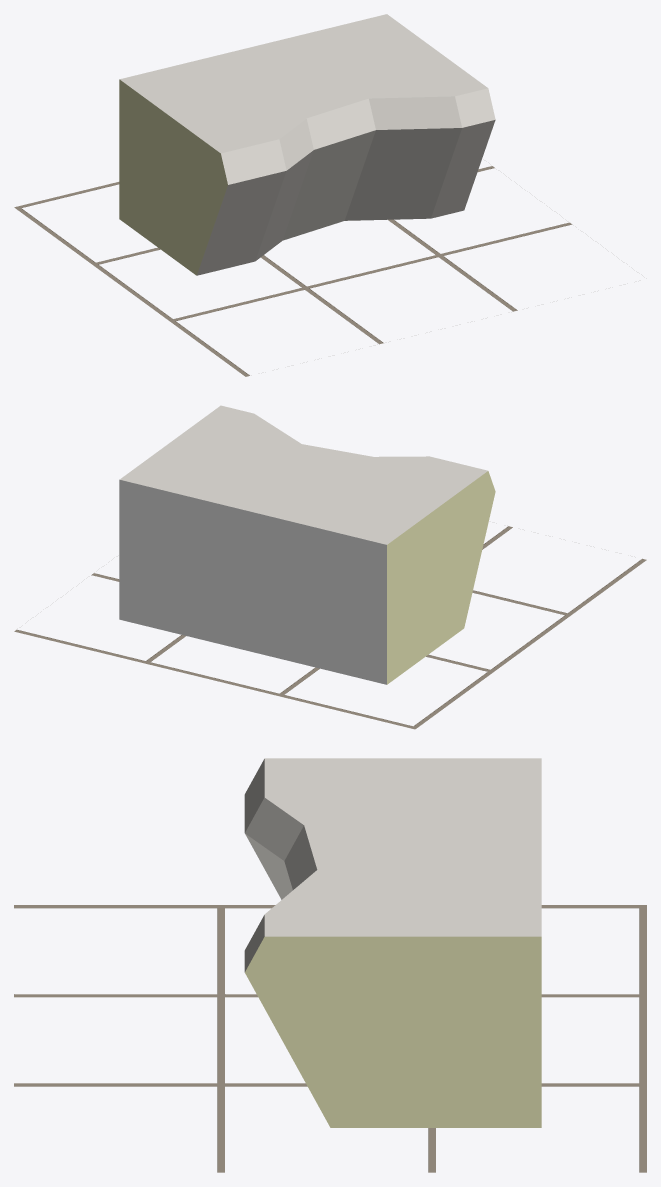
The model's file is Cracked_Straight_2x2_3_Top.glb.
3 renders of one model, top to bottom at view 1: azimuth 30°, elevation 25°; view 2: azimuth 150°, elevation 25°; view 3: azimuth 270°, elevation 25°, orthographic. The views are drawn at different scales.
Visible parts, largest first — view 1: Cracked_Straight_2x2_3_Top, Floor; view 2: Cracked_Straight_2x2_3_Top, Floor; view 3: Cracked_Straight_2x2_3_Top, Floor.
Part boxes in pixels (bbox=[...]): Cracked_Straight_2x2_3_Top: bbox=[119, 14, 495, 275]; Floor: bbox=[14, 166, 572, 376]; Cracked_Straight_2x2_3_Top: bbox=[119, 405, 495, 684]; Floor: bbox=[14, 526, 646, 729]; Cracked_Straight_2x2_3_Top: bbox=[244, 758, 541, 1127]; Floor: bbox=[14, 905, 646, 1172].
Size of the model in its own units: 300 by 100 by 300.
4 materials, 1 textured.
